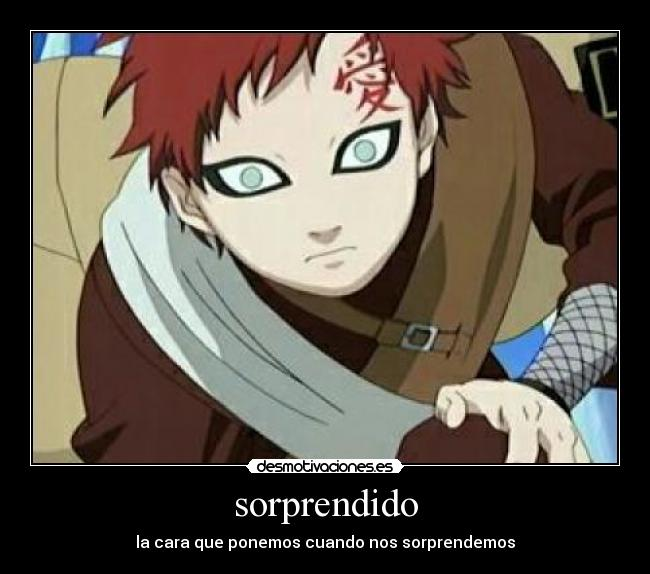gaara: (157, 33, 441, 299)
